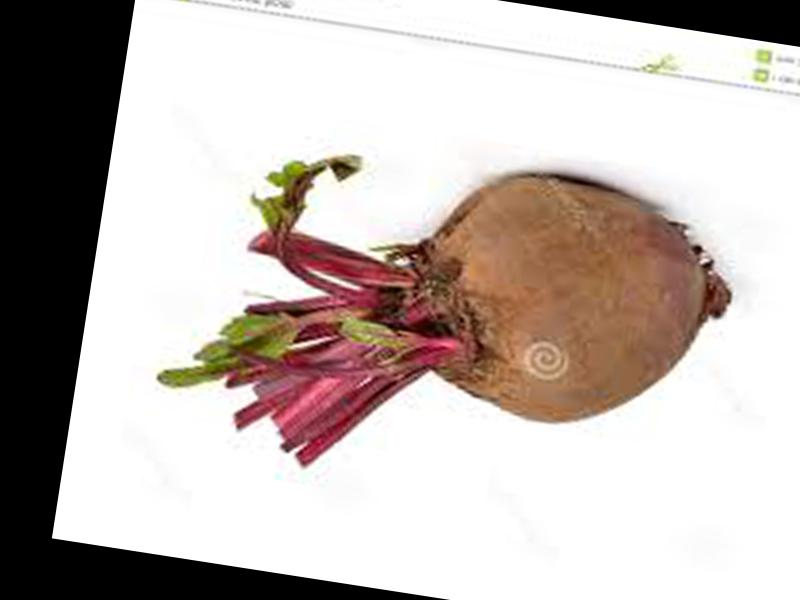Beet: (151, 124, 745, 524)
